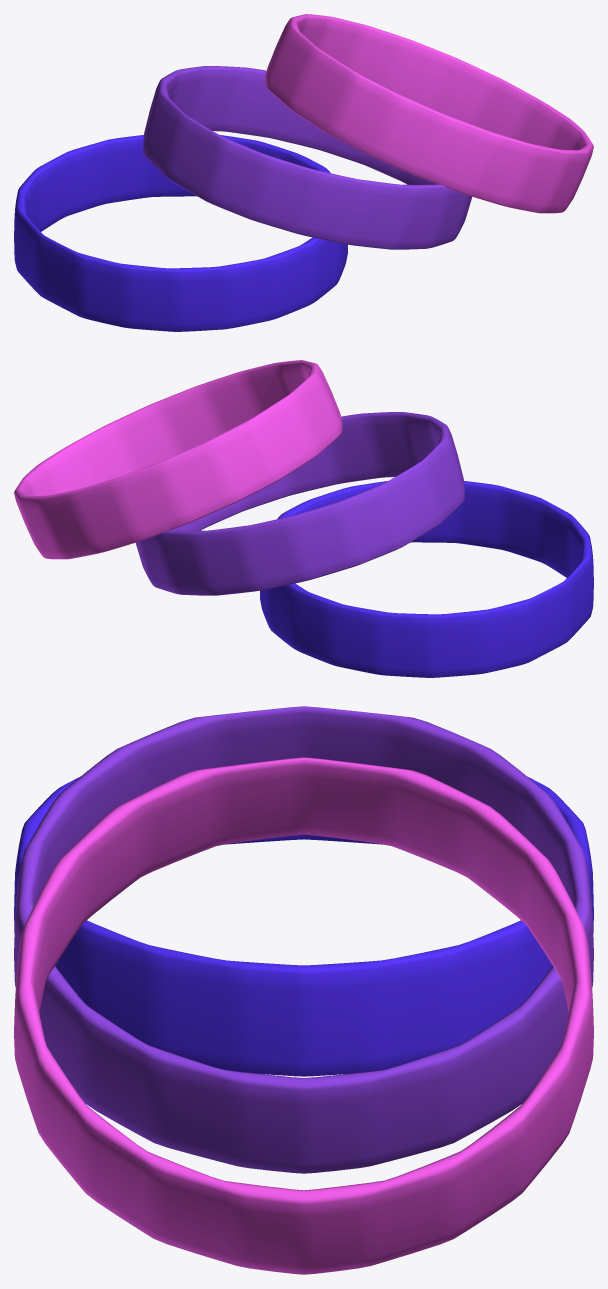
File: Wrist BAnds.fbx
The picture shows the model from 3 angles, top to bottom: view 1: azimuth 30°, elevation 25°; view 2: azimuth 150°, elevation 25°; view 3: azimuth 270°, elevation 25°; orthographic projection. The views are drawn at different scales.
Visible parts, largest first — view 1: pCylinder88; view 2: pCylinder88; view 3: pCylinder88.
Boxes of the visible parts, x1,y1,x2,y2 form: pCylinder88: [14, 14, 593, 331]; pCylinder88: [14, 360, 593, 677]; pCylinder88: [14, 706, 593, 1274].
Size of the model in its own units: 3.97 by 1.33 by 2.16.
